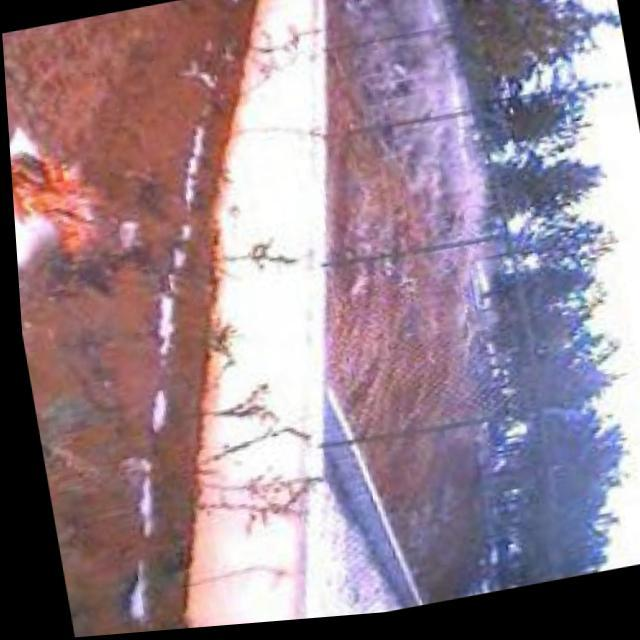fire: (6, 134, 110, 270)
